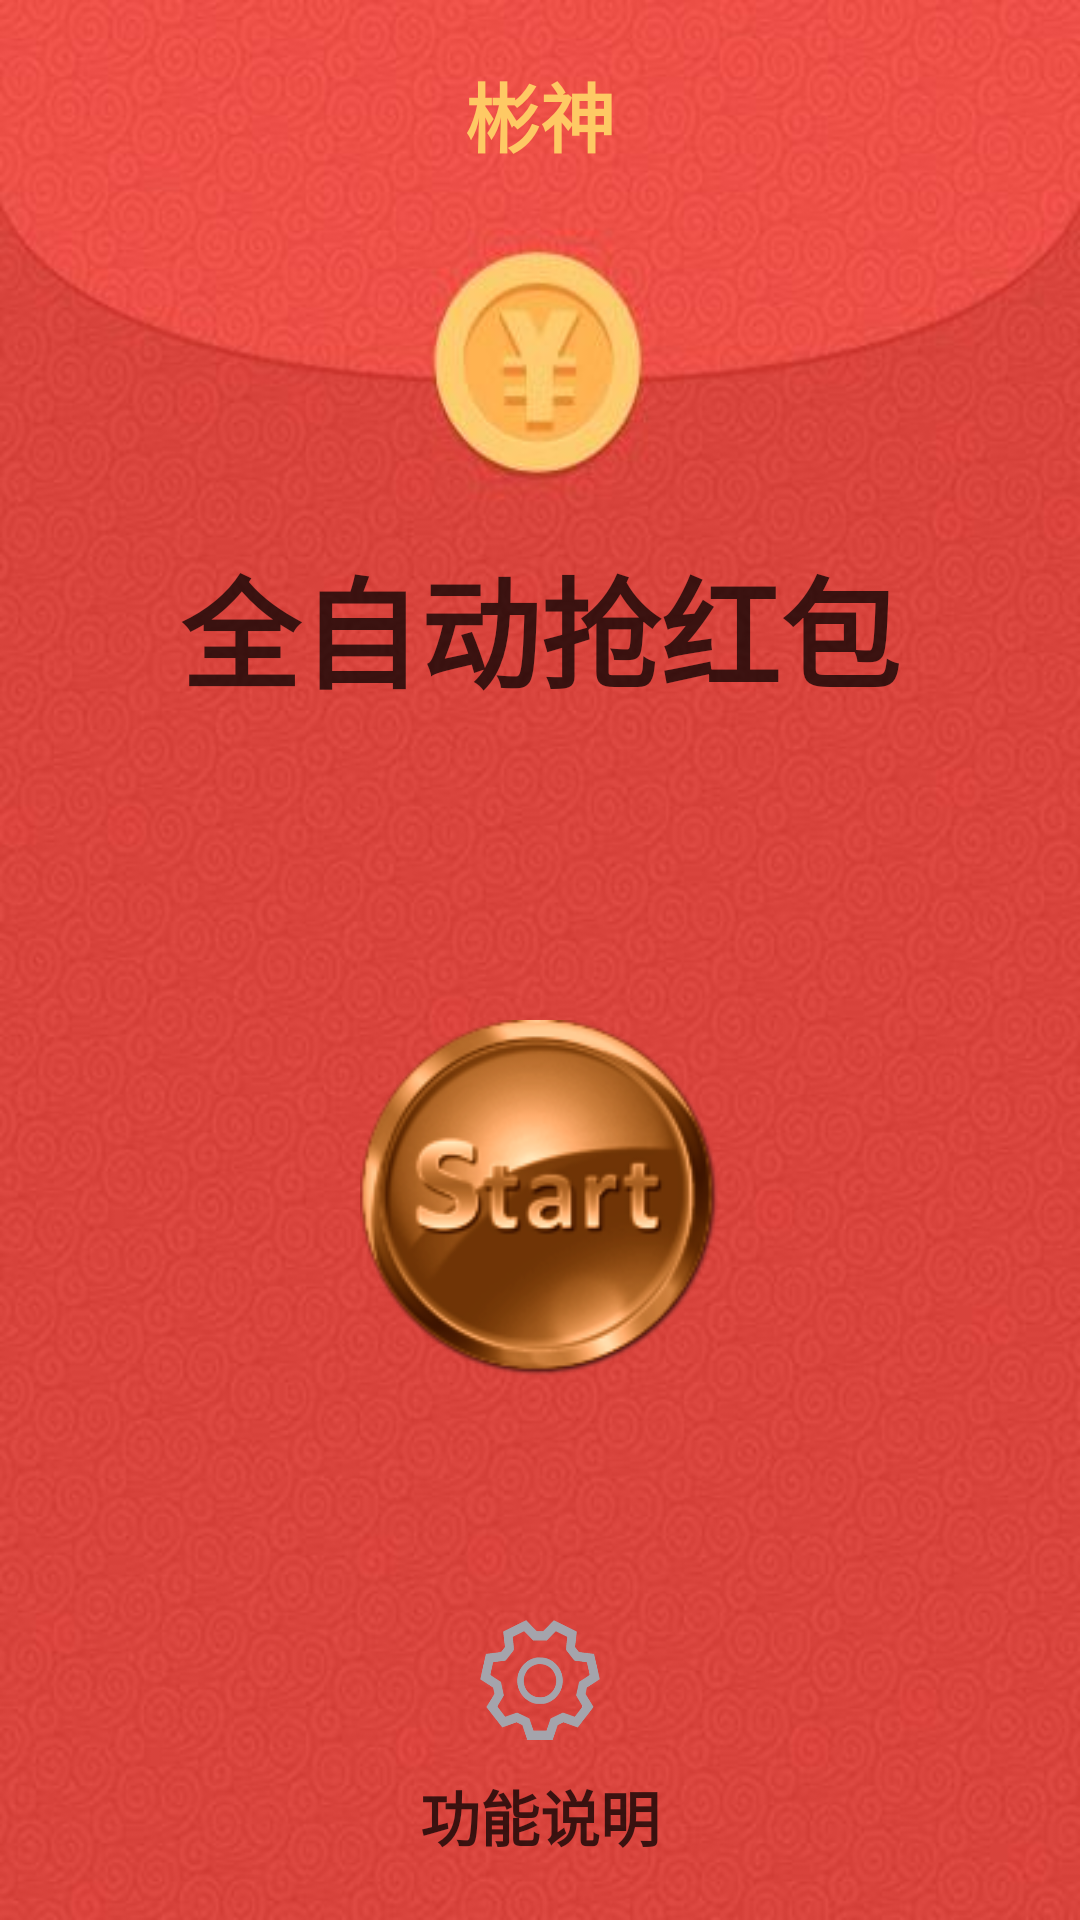

Where icons sit on this 1080*1920 app screen, as (left=x1, top=y1, right=x2, bottom=y2):
open: (left=360, top=1020, right=716, bottom=1374)
setting: (left=480, top=1620, right=600, bottom=1740)
